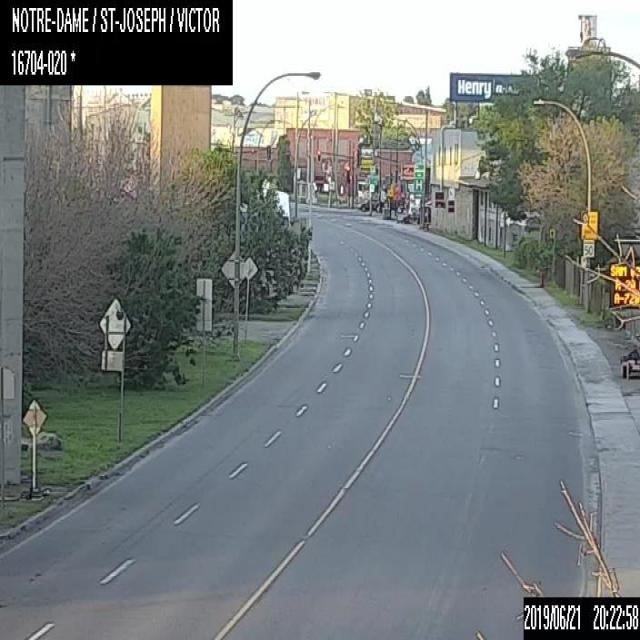construction: (607, 230, 639, 380)
vehicle: (358, 199, 384, 212)
